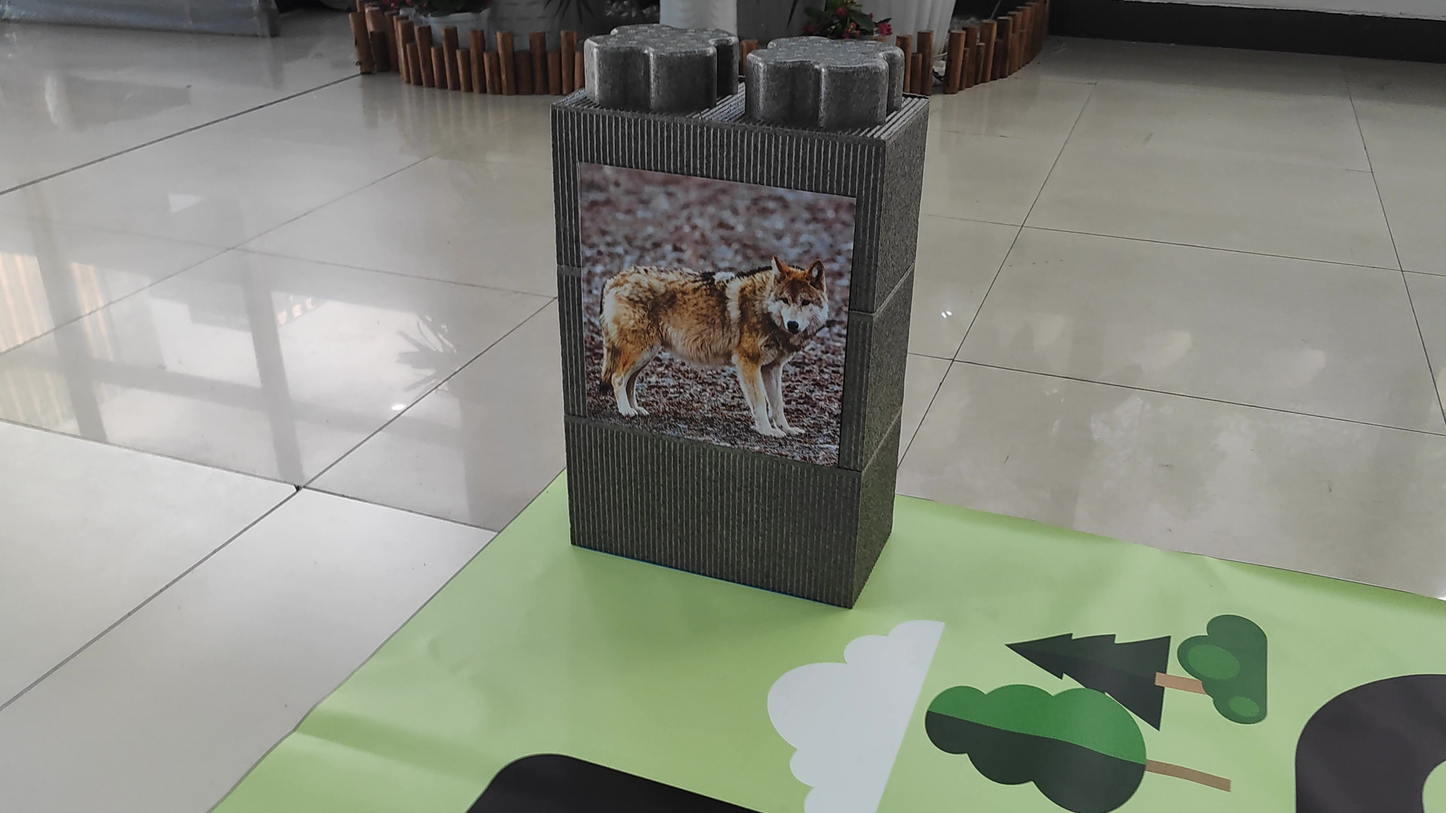wolf: (577, 241, 821, 449)
